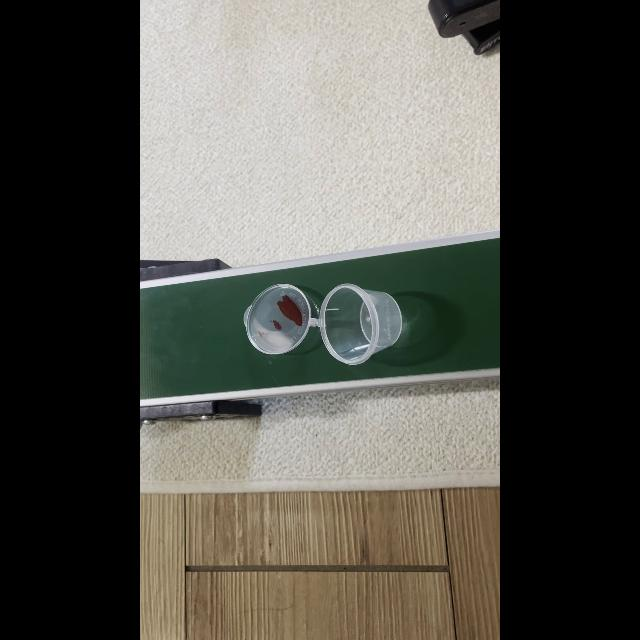dirty: (244, 289, 386, 359)
